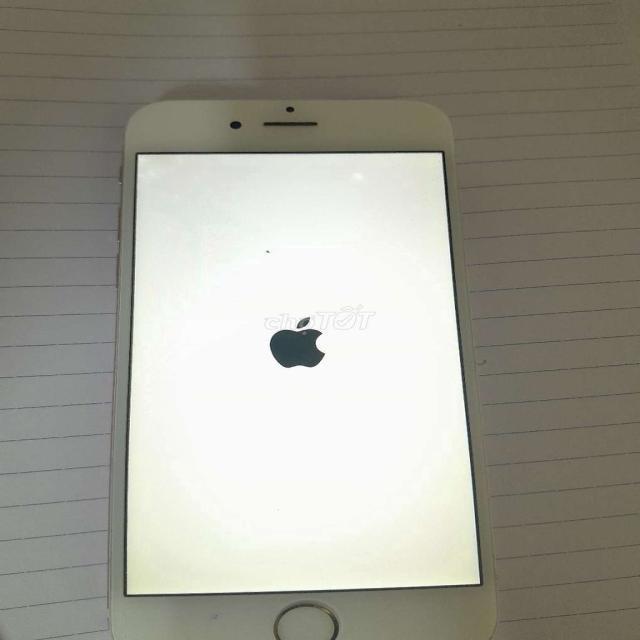scratch: (189, 596, 233, 628)
screen_defect: (260, 245, 276, 260)
